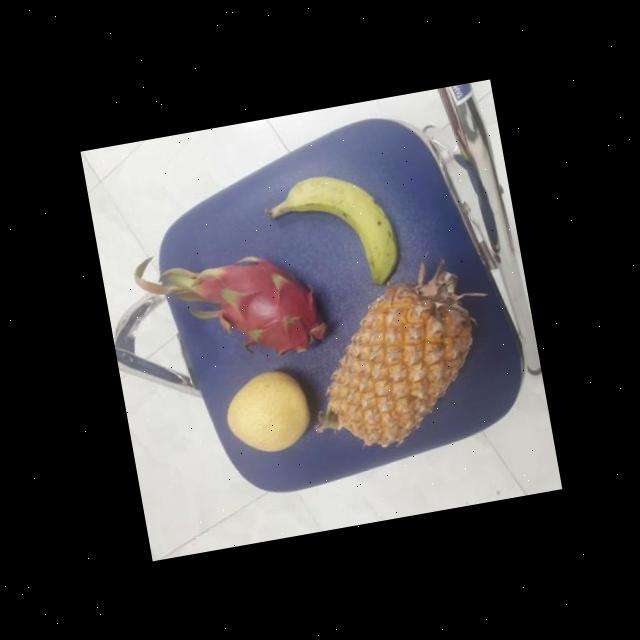banana: (264, 162, 404, 301)
pear: (218, 359, 315, 459)
pineapple: (304, 264, 485, 446)
pitaya: (198, 242, 330, 368)
